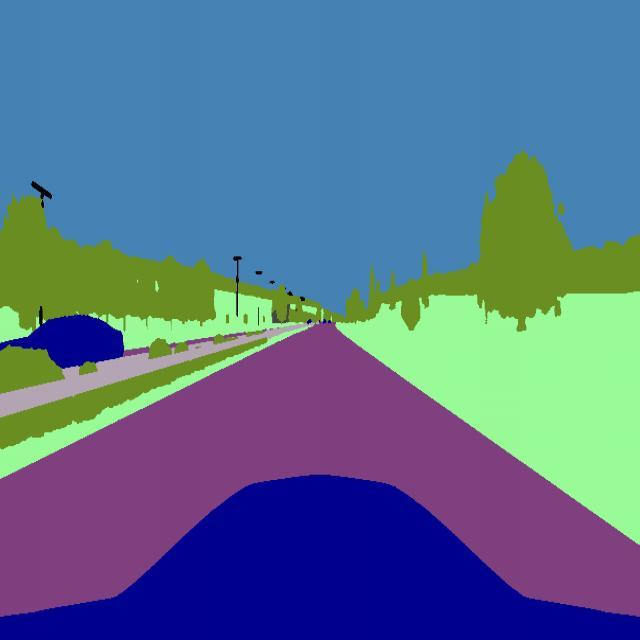safe: (0, 310, 126, 371)
